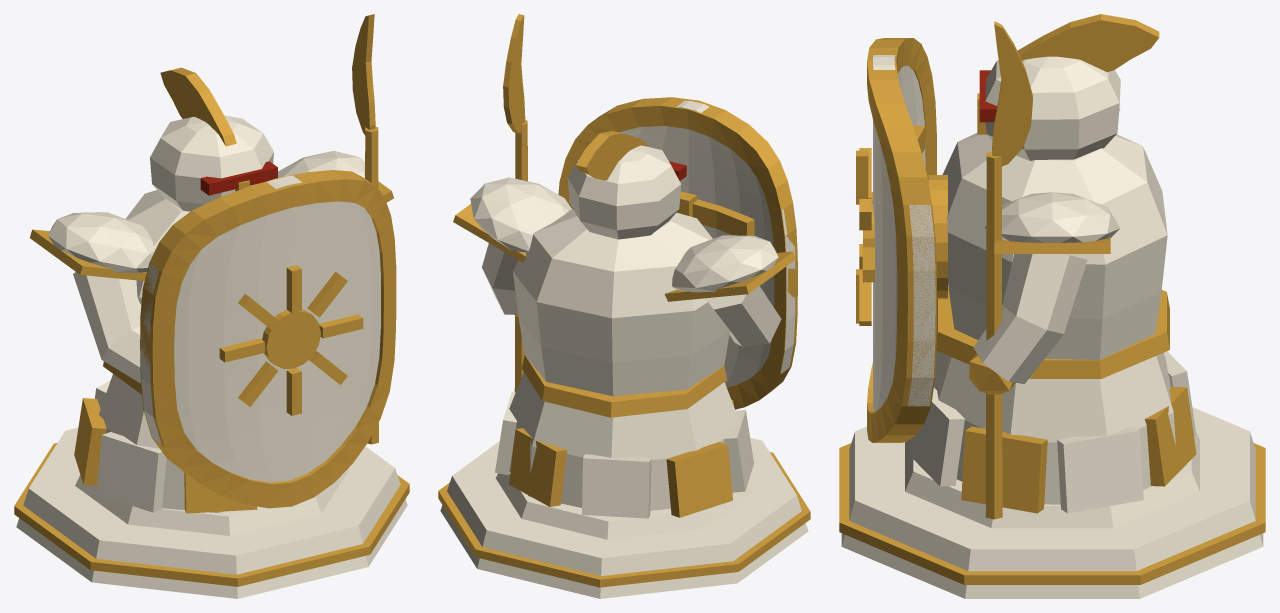
Rendered from warden.glb.
3 views of the same model, side by side, from view 1: azimuth 30°, elevation 25°; view 2: azimuth 150°, elevation 25°; view 3: azimuth 270°, elevation 25° (orthographic). The views are drawn at different scales.
Parts seen in each view (by area): view 1: warden_shield, warden_body, warden_base; view 2: warden_body, warden_base, warden_shield; view 3: warden_body, warden_base, warden_shield.
Part boxes in pixels (box(x1,y1,x2,y2)): warden_shield: box(140, 170, 396, 508); warden_body: box(30, 14, 393, 513); warden_base: box(14, 427, 409, 598); warden_body: box(453, 14, 795, 518); warden_base: box(438, 438, 810, 598); warden_shield: box(558, 97, 797, 409); warden_body: box(908, 14, 1196, 519); warden_base: box(839, 407, 1265, 598); warden_shield: box(856, 38, 936, 442).
Size of the model in its own units: 0.8777 by 1.28 by 0.8777.
